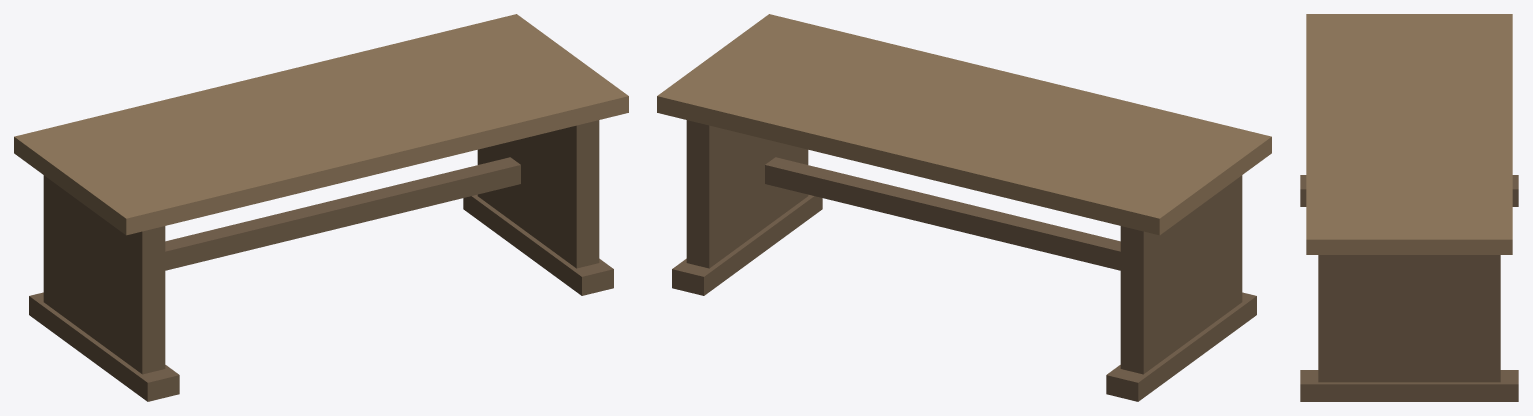
File: table.glb
3 renders of one model, left to right at view 1: azimuth 30°, elevation 25°; view 2: azimuth 150°, elevation 25°; view 3: azimuth 270°, elevation 25°, orthographic. The views are drawn at different scales.
Visible parts, largest first — view 1: table; view 2: table; view 3: table.
Boxes of the visible parts, x1,y1,x2,y2 form: table: (14,14,628,401); table: (657,14,1271,401); table: (1300,14,1518,401).
Bounding box in the file's own units: 2.2 × 0.775 × 0.9.
